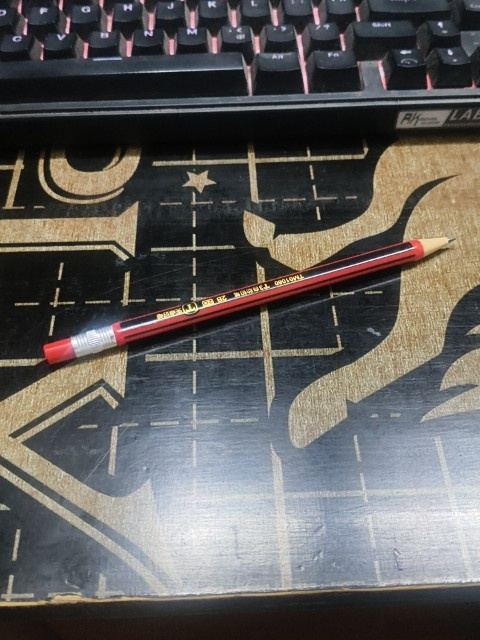pen: (20, 212, 467, 378)
